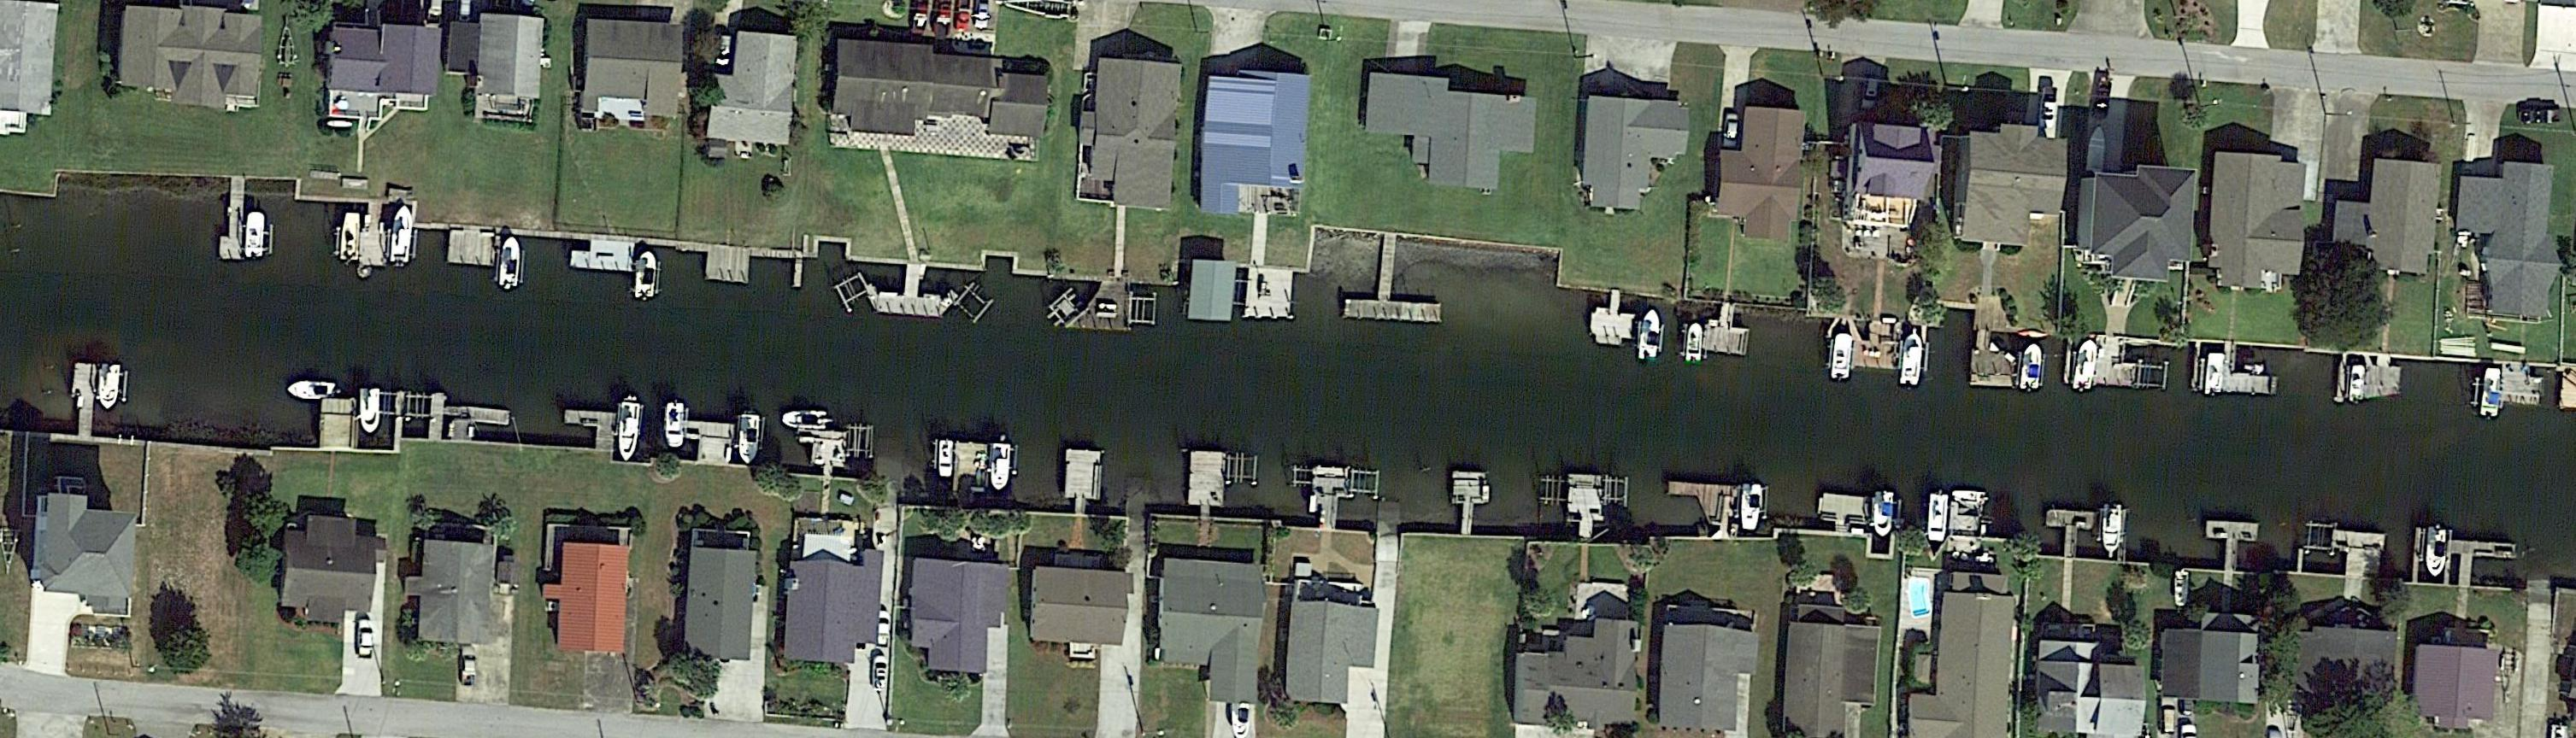harbor: (393, 390, 511, 444), (859, 261, 964, 322), (1666, 482, 1741, 536), (1065, 281, 1134, 334), (2336, 353, 2402, 408), (2449, 541, 2518, 590), (1306, 465, 1357, 529), (1970, 330, 2019, 393), (1851, 319, 1906, 373), (792, 427, 849, 478), (2203, 521, 2261, 572), (1589, 291, 1640, 348), (2223, 342, 2274, 398), (2044, 508, 2101, 557), (2330, 529, 2387, 579), (1244, 270, 1295, 324), (1566, 475, 1603, 544), (1188, 452, 1227, 518), (1704, 304, 1753, 357), (1449, 472, 1490, 534), (1344, 298, 1442, 322), (563, 406, 618, 450), (1066, 449, 1102, 514), (680, 421, 734, 464), (951, 444, 989, 505), (2093, 340, 2139, 390), (67, 363, 99, 436), (568, 240, 636, 273), (218, 179, 245, 261), (320, 398, 361, 449), (1819, 493, 1870, 533), (2500, 363, 2546, 406), (360, 202, 389, 268), (448, 228, 496, 268), (705, 251, 751, 284), (1948, 500, 1986, 539), (792, 258, 805, 289)
ship: (616, 401, 644, 467), (1897, 329, 1927, 390), (494, 233, 524, 293), (389, 205, 416, 270), (2072, 337, 2100, 394), (2422, 526, 2449, 579), (1636, 307, 1663, 362), (631, 250, 659, 301), (736, 414, 764, 465), (2477, 367, 2504, 419), (95, 363, 123, 411), (1828, 332, 1855, 381), (2019, 342, 2044, 394), (284, 378, 340, 401), (1740, 482, 1764, 533), (2100, 505, 2123, 559), (243, 210, 268, 260), (340, 212, 365, 261), (2083, 123, 2108, 173), (358, 388, 383, 437), (989, 442, 1014, 490), (1871, 490, 1894, 537), (1927, 493, 1948, 544), (2203, 352, 2226, 396), (779, 408, 826, 427), (665, 403, 685, 449), (1684, 321, 1704, 363), (2349, 363, 2369, 404), (936, 437, 956, 477), (2173, 570, 2192, 610)
